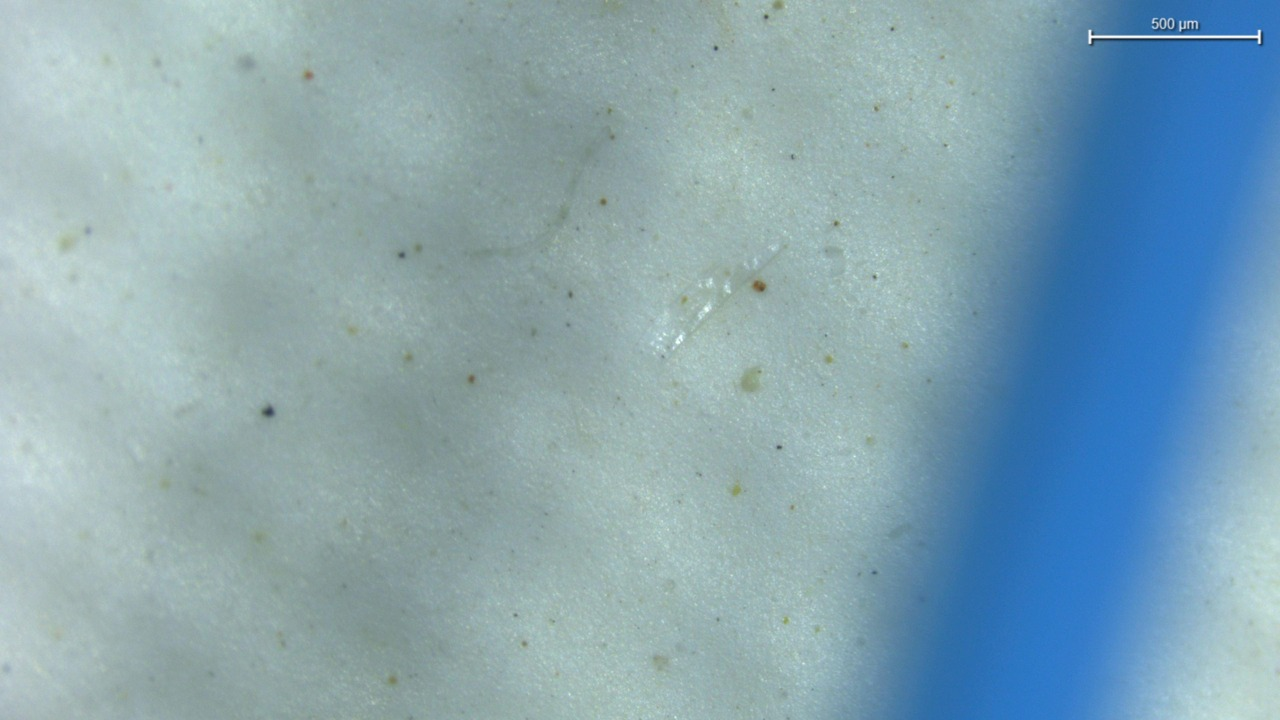microplastic_fragment: (649, 243, 785, 357)
